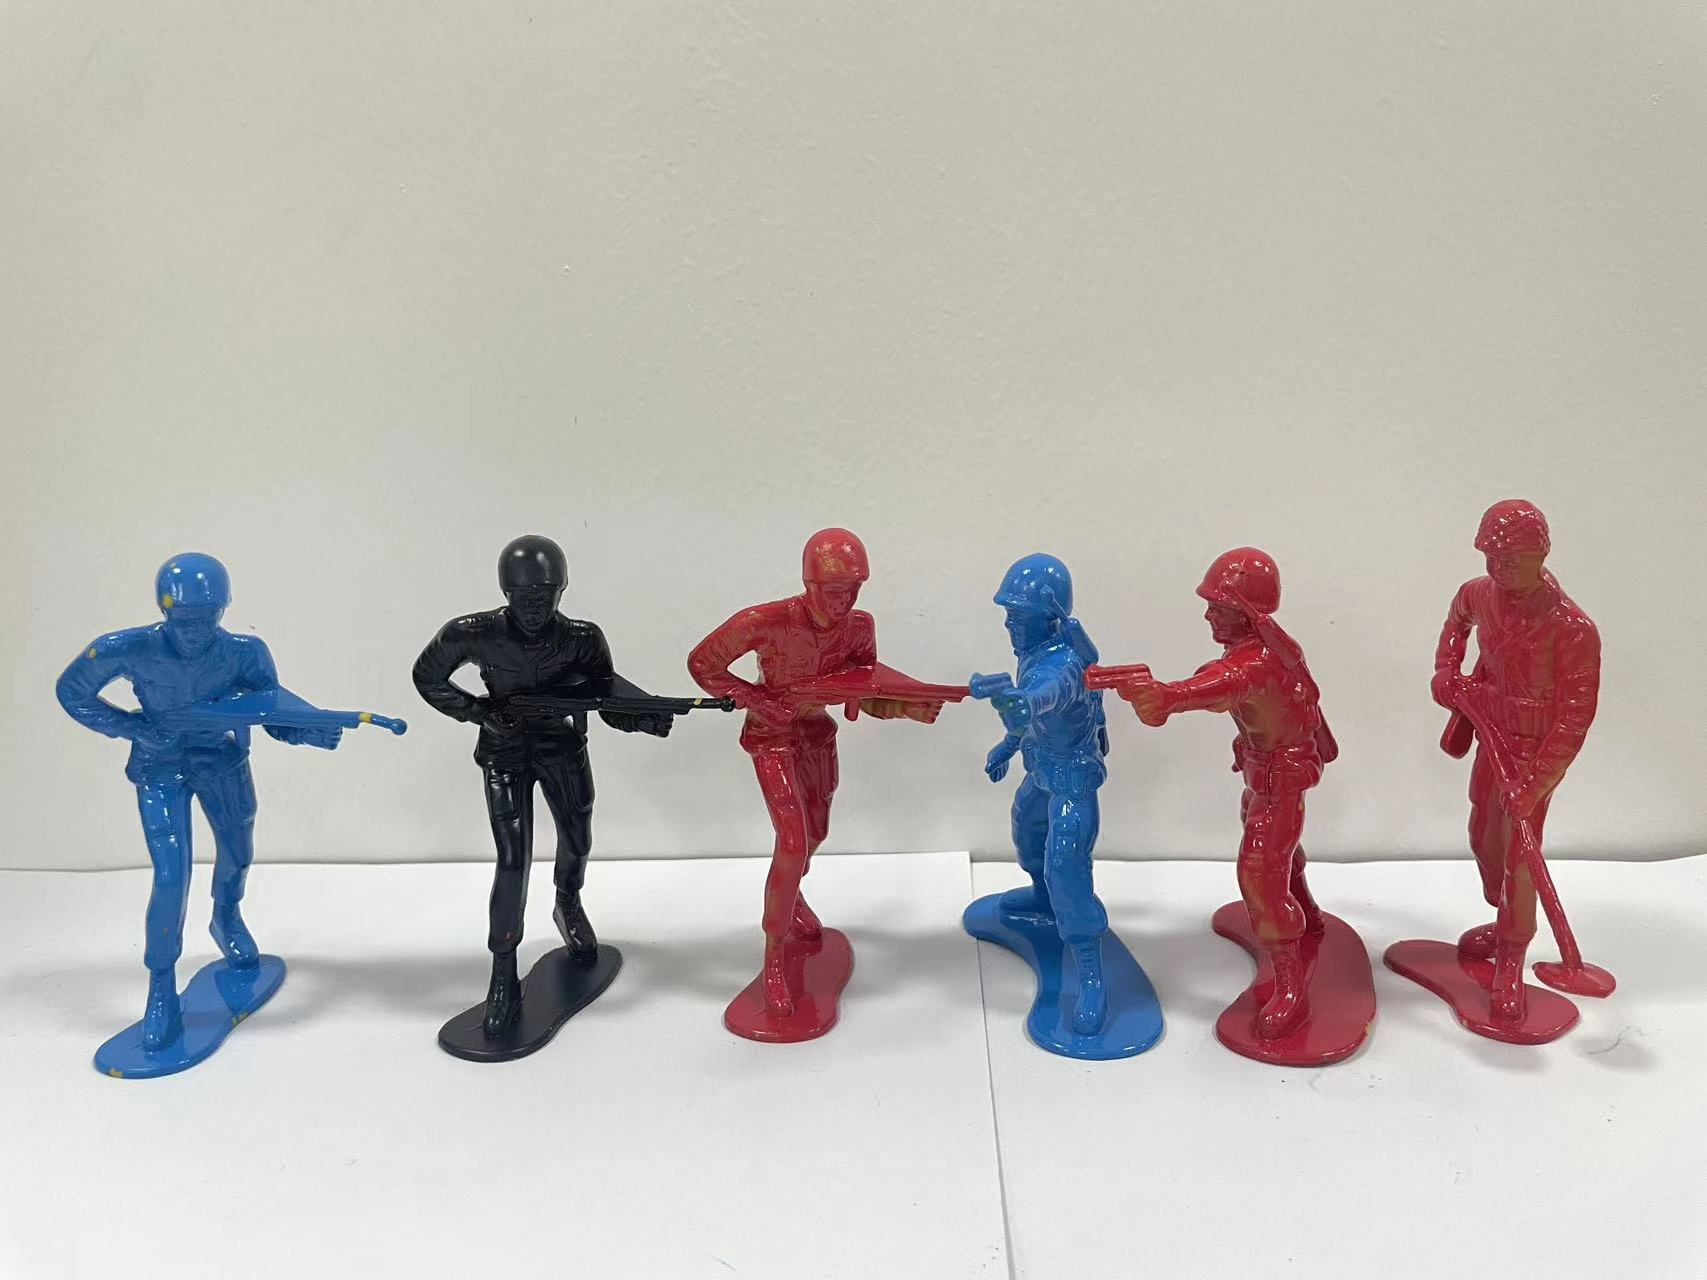black: (391, 502, 706, 1072)
blue: (34, 519, 409, 1116), (964, 479, 1164, 1107)
red: (1398, 463, 1707, 1113), (688, 454, 952, 1086), (1118, 510, 1403, 1088)
